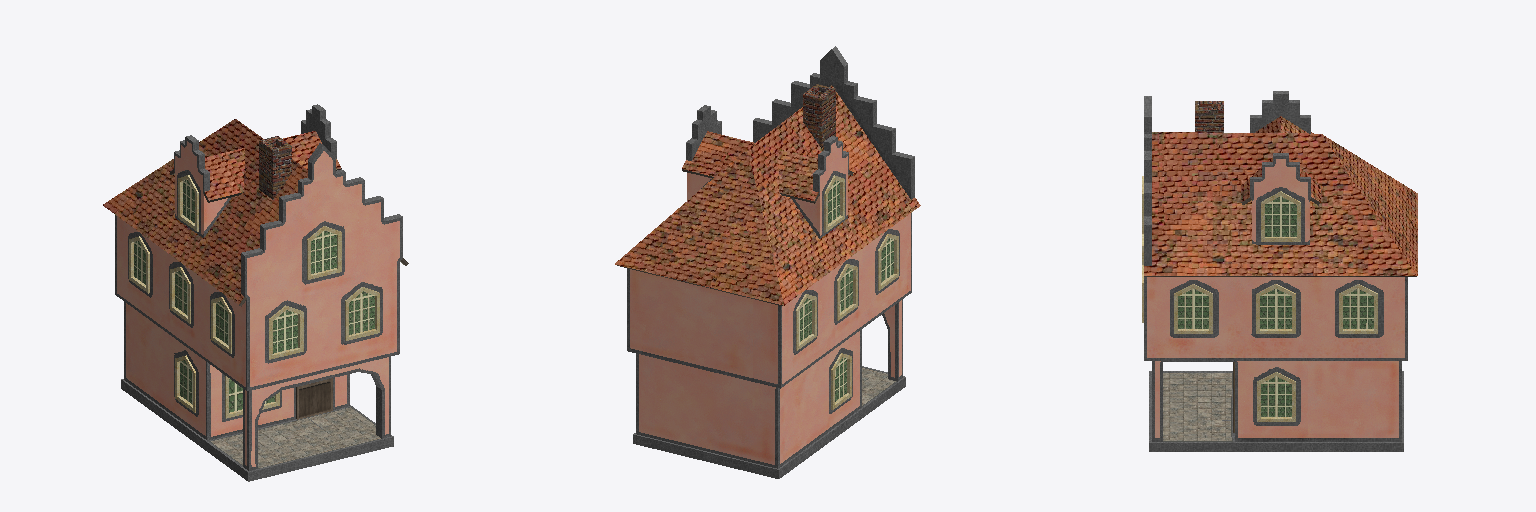
3 views of the same model, side by side, from view 1: azimuth 30°, elevation 25°; view 2: azimuth 150°, elevation 25°; view 3: azimuth 270°, elevation 25° (orthographic).
Visible parts, largest first — view 1: NoName,1; view 2: NoName,1; view 3: NoName,1.
Boxes of the visible parts, x1=… form: NoName,1: x1=103, y1=104, x2=408, y2=481; NoName,1: x1=615, y1=46, x2=920, y2=478; NoName,1: x1=1142, y1=91, x2=1417, y2=451.
Bounding box in the file's own units: 5 × 9 × 7.
1 materials, 1 textured.